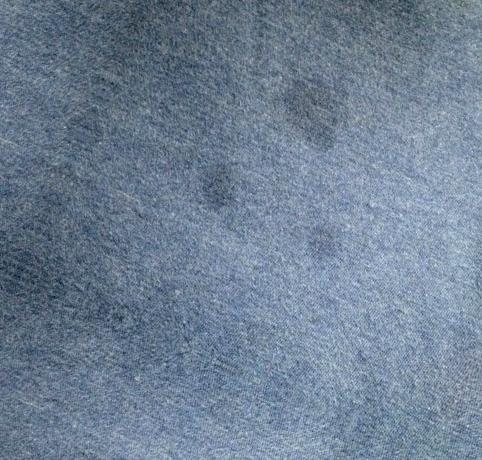stain: (280, 67, 356, 154), (190, 155, 242, 222), (302, 219, 341, 273)
